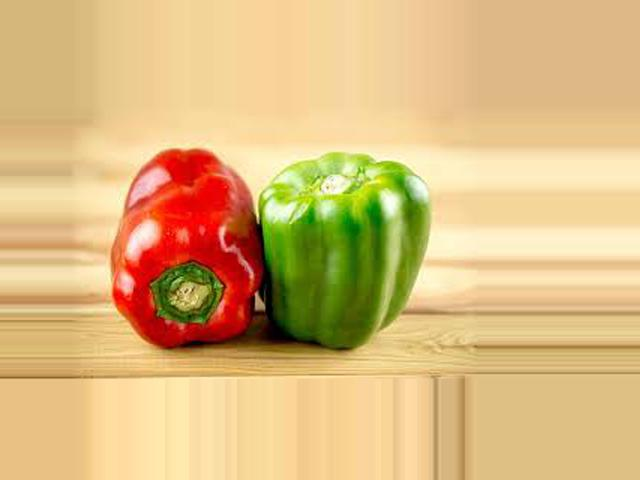bell_pepper: (105, 146, 268, 346)
